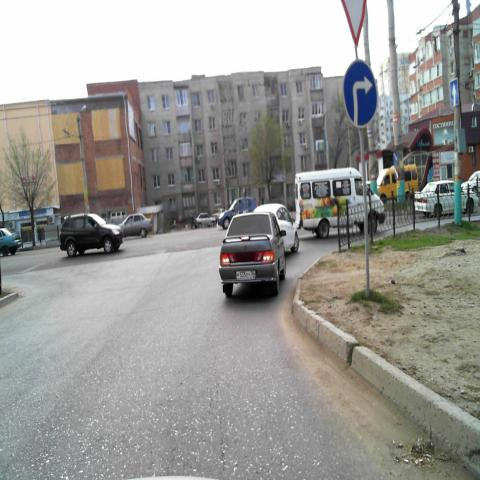4_1_2: (344, 57, 378, 129)
